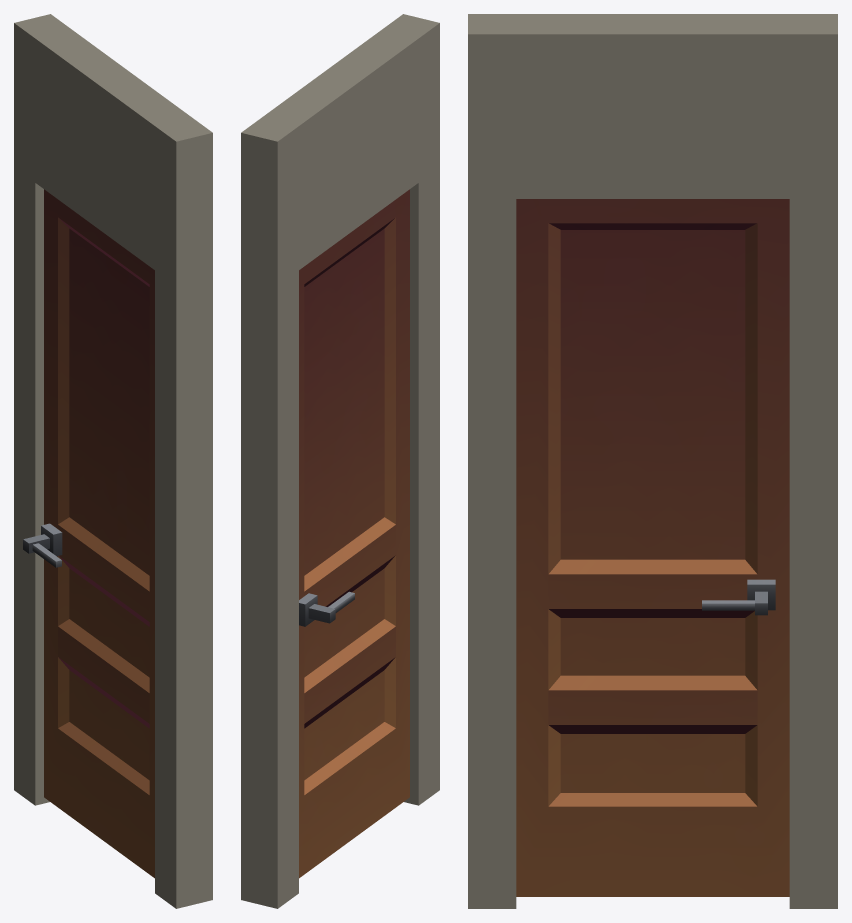
File: TSP_Interior_Wall_Short_03A.fbx
3 renders of one model, left to right at view 1: azimuth 30°, elevation 25°; view 2: azimuth 150°, elevation 25°; view 3: azimuth 270°, elevation 25°, orthographic. The views are drawn at different scales.
Parts seen in each view (by area): view 1: TSP_Interior_Wall_Short_03A, TSP_Interior_Wall_Short_03A_Door; view 2: TSP_Interior_Wall_Short_03A, TSP_Interior_Wall_Short_03A_Door; view 3: TSP_Interior_Wall_Short_03A_Door, TSP_Interior_Wall_Short_03A.
Part boxes in pixels (box(x1,y1,x2,y2)): TSP_Interior_Wall_Short_03A: box(14, 14, 212, 908); TSP_Interior_Wall_Short_03A_Door: box(23, 189, 154, 878); TSP_Interior_Wall_Short_03A: box(241, 14, 439, 908); TSP_Interior_Wall_Short_03A_Door: box(299, 189, 409, 878); TSP_Interior_Wall_Short_03A_Door: box(516, 199, 789, 896); TSP_Interior_Wall_Short_03A: box(468, 14, 837, 908).
Size of the model in its own units: 0.3261 by 3 by 1.15.
